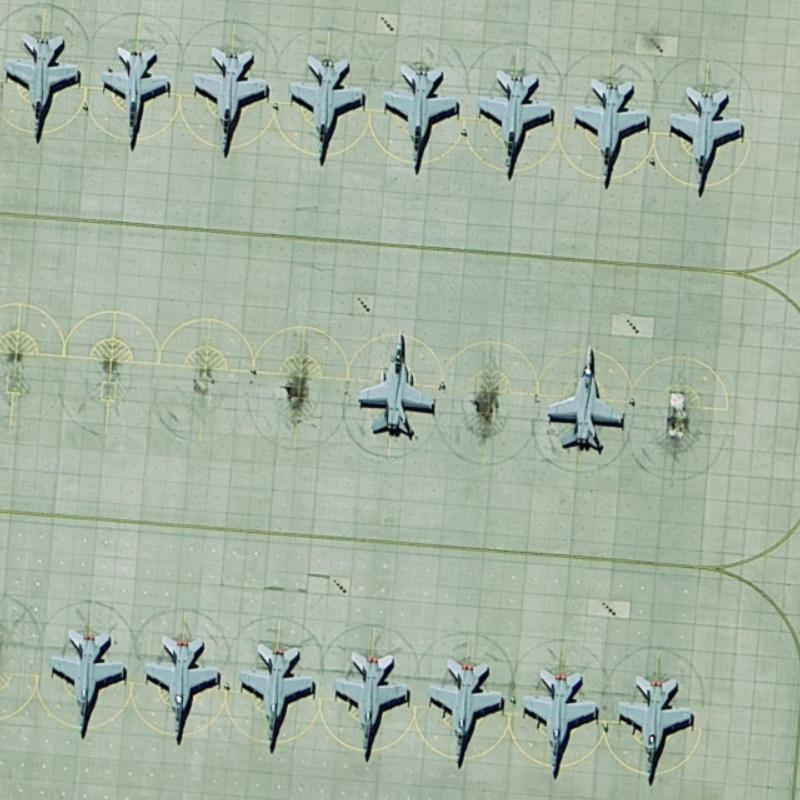A16: (565, 72, 657, 192), (472, 62, 555, 183), (188, 41, 271, 162), (378, 60, 462, 177), (662, 82, 748, 196), (284, 52, 367, 170), (0, 28, 83, 146), (613, 670, 696, 787), (328, 648, 411, 764), (424, 652, 505, 770), (518, 665, 600, 781), (139, 631, 221, 747), (47, 624, 128, 741), (237, 640, 317, 758), (354, 326, 437, 439), (543, 340, 626, 452), (98, 40, 174, 147)
